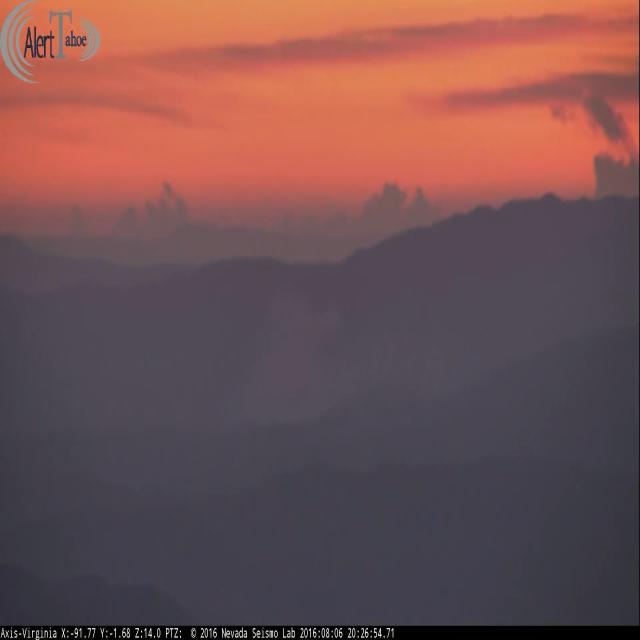smoke: (262, 286, 348, 422)
